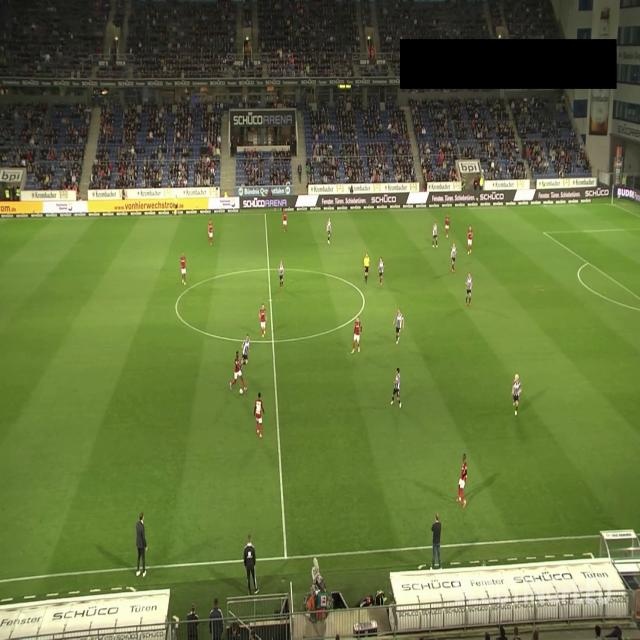ball: (239, 388, 243, 395)
player: (229, 350, 248, 393), (456, 452, 468, 508), (253, 392, 265, 439), (511, 374, 522, 416), (350, 316, 362, 354), (391, 367, 401, 409), (392, 308, 403, 346), (241, 334, 250, 365), (464, 272, 472, 306), (259, 303, 266, 338), (180, 252, 187, 285), (451, 242, 457, 273), (278, 260, 284, 290), (467, 226, 473, 256), (378, 257, 384, 286), (326, 217, 332, 245), (432, 221, 438, 248), (444, 212, 450, 238), (208, 218, 213, 246), (282, 209, 287, 232)
referee: (364, 252, 371, 283), (173, 192, 179, 218)
